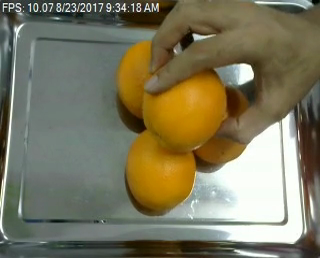Orange: (125, 131, 196, 210)
